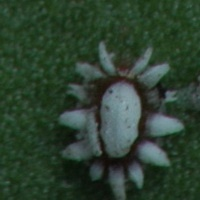insect: (59, 41, 183, 199)
